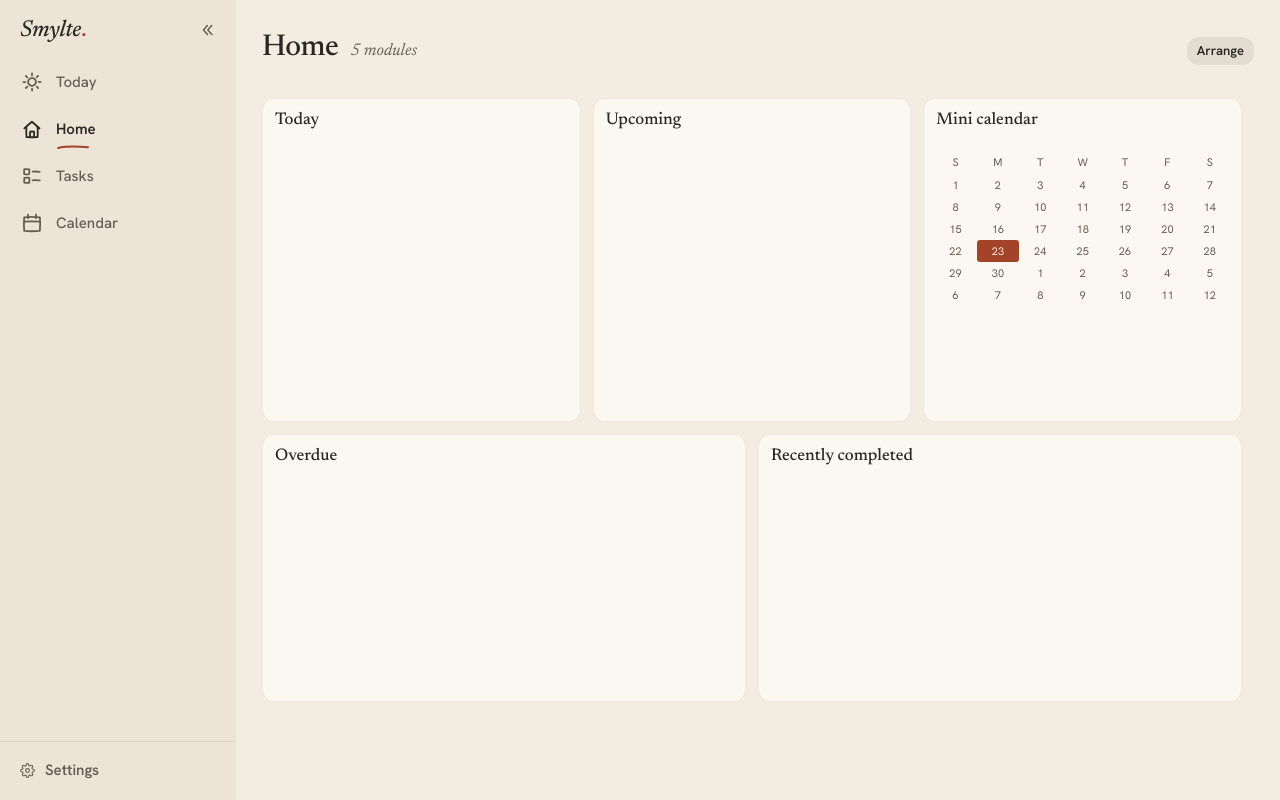
Test: the sidebar layout, further › lends the Calendar its calendars and task lists the same way
Click the button "Calendar".
click(118, 224)  # box x1=8 y1=201 x2=228 y2=247
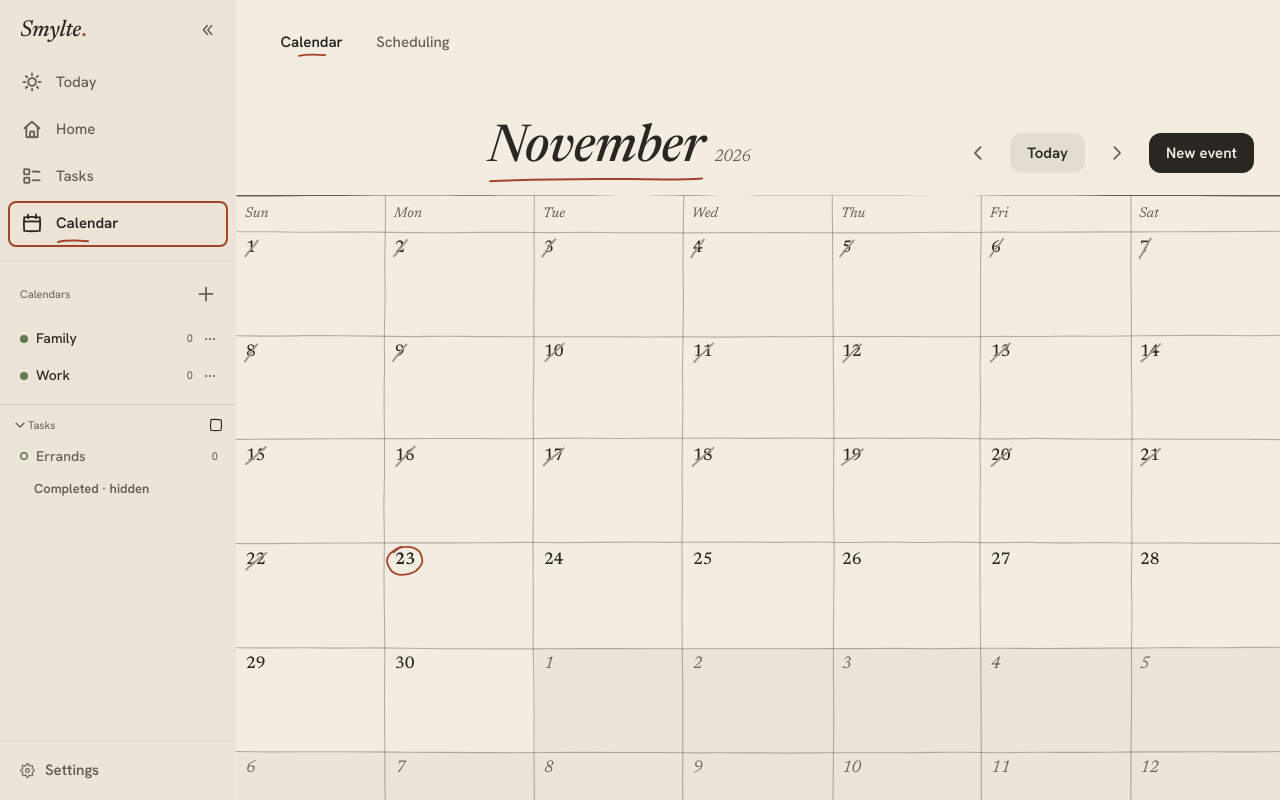
Expected: the text "Family" is shown, x1=36 y1=329 x2=77 y2=347
Expected: the text "Work" is shown, x1=36 y1=366 x2=70 y2=384
Expected: the element with class "cal-tasks" is shown, x1=0 y1=404 x2=236 y2=506
